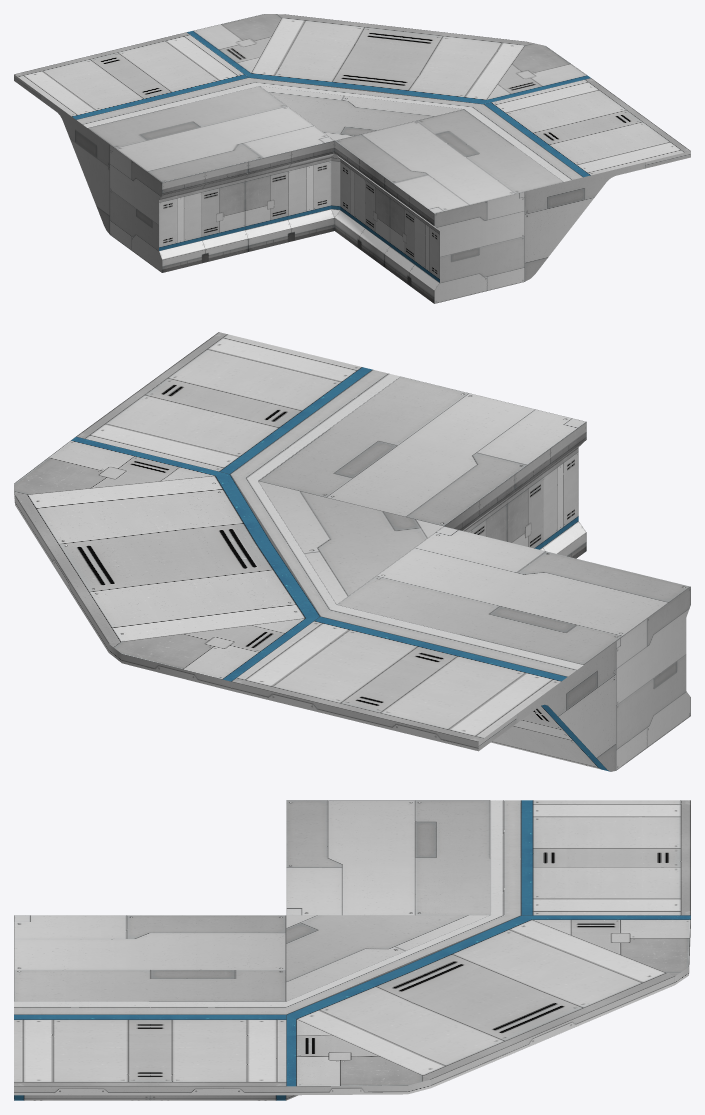
Rendered from Ext_Plateform_Corner_01.FBX.
3 renders of one model, top to bottom at view 1: azimuth 30°, elevation 25°; view 2: azimuth 150°, elevation 25°; view 3: azimuth 270°, elevation 25°, orthographic. The views are drawn at different scales.
Parts seen in each view (by area): view 1: Ext_Plateform_Corner_01; view 2: Ext_Plateform_Corner_01; view 3: Ext_Plateform_Corner_01.
Part boxes in pixels (x1,y1,x2,y2): Ext_Plateform_Corner_01: (14, 14, 690, 303); Ext_Plateform_Corner_01: (14, 332, 690, 771); Ext_Plateform_Corner_01: (14, 800, 690, 1100).
Bounding box in the file's own units: 696 × 140 × 697.
